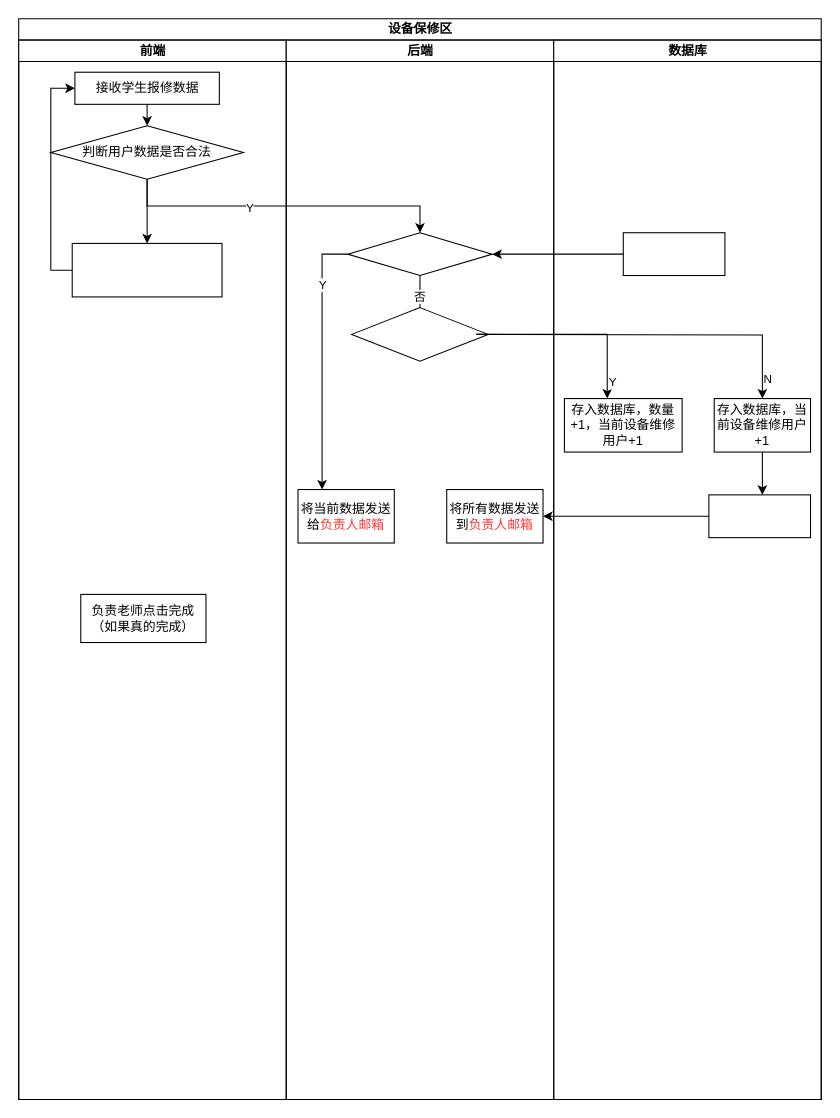
Some shapes in this 840 by 1118 pixel diagram are drawn without their labels. The shapes that lost their labels are listed below. From the top down, each one's centre as x and y in pixels, then its label:
At [146,269]: "提示框提示输入不合法".
At [419,254]: "判断是否紧急".
At [673,254]: "从数据库执行count，返回值".
At [419,334]: "判断count返回结果是否等于2".
At [759,516]: "从数据库取出当前设备维修信息".
